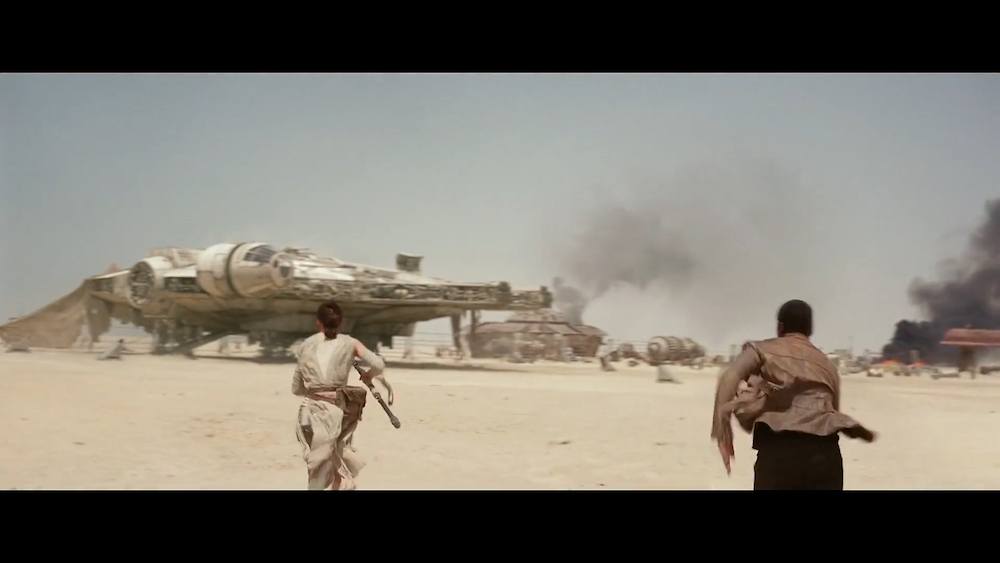Millennium Falcon: (83, 244, 557, 341)
